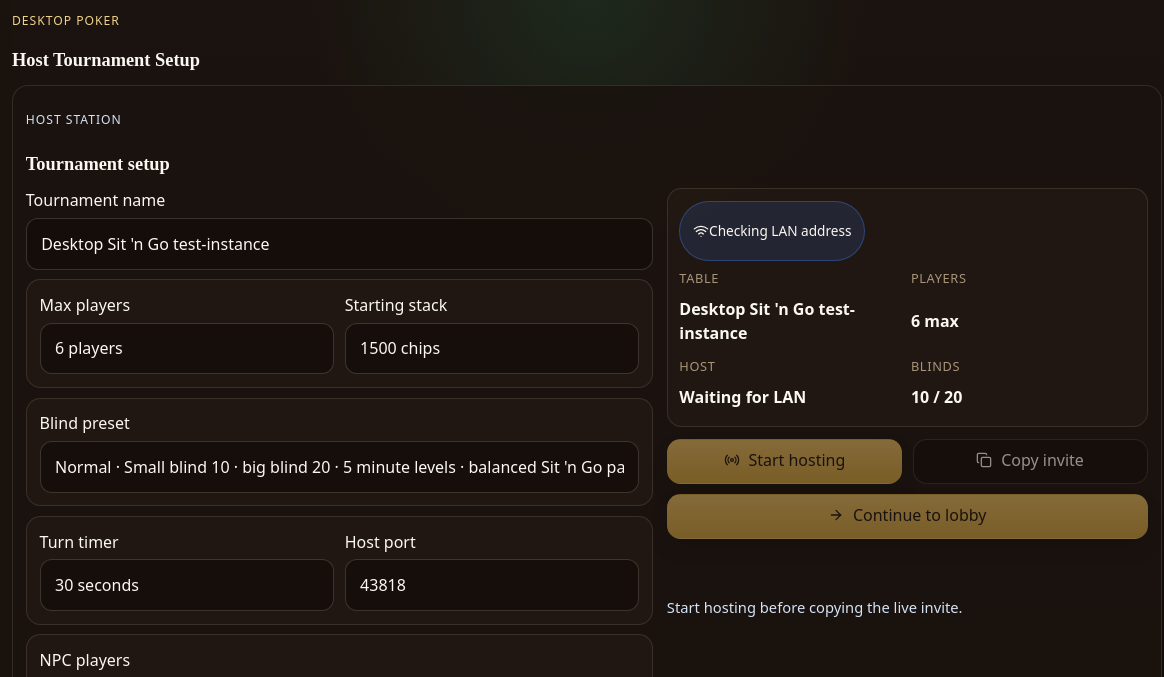
Test case: HostTournamentSetupScreen › shows port validation feedback after the user blurs an out-of-range port (F2)
The width and height of the screenshot is (1164, 677).
Replace the text in the number field labelled "Host port" with "99999" at (492, 585), box x1=345 y1=559 x2=639 y2=611
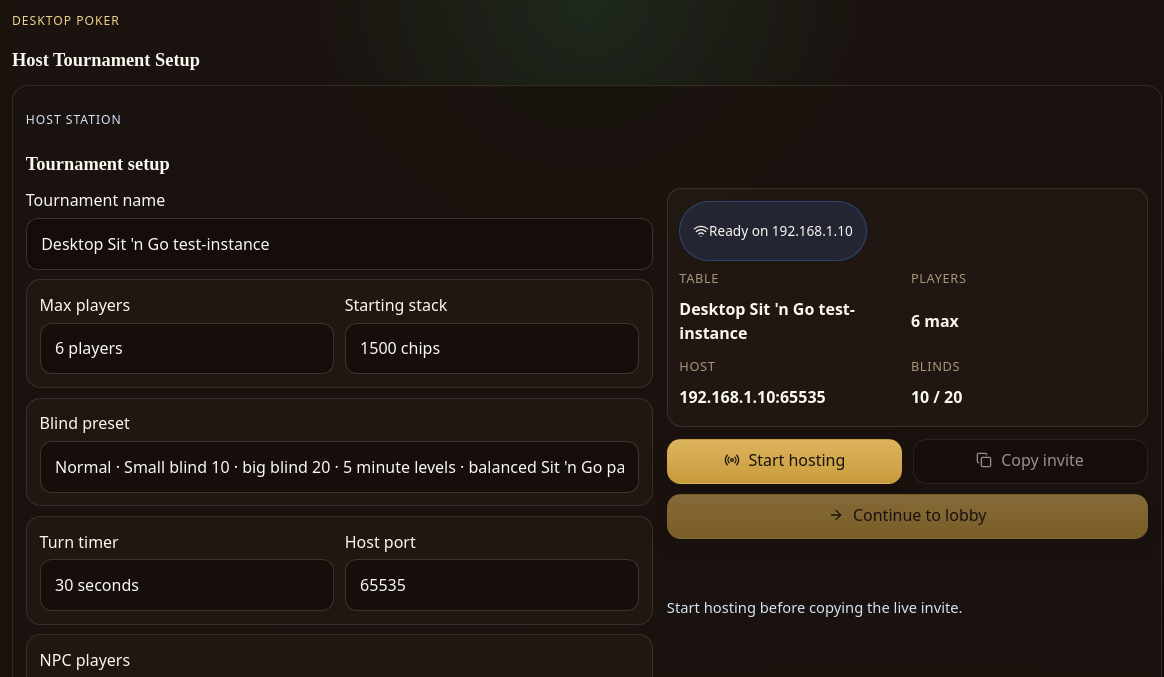
Expected: the text "Port must be between 1 and 65535." is not shown
Leave the number field labelled "Host port", box x1=345 y1=559 x2=639 y2=611
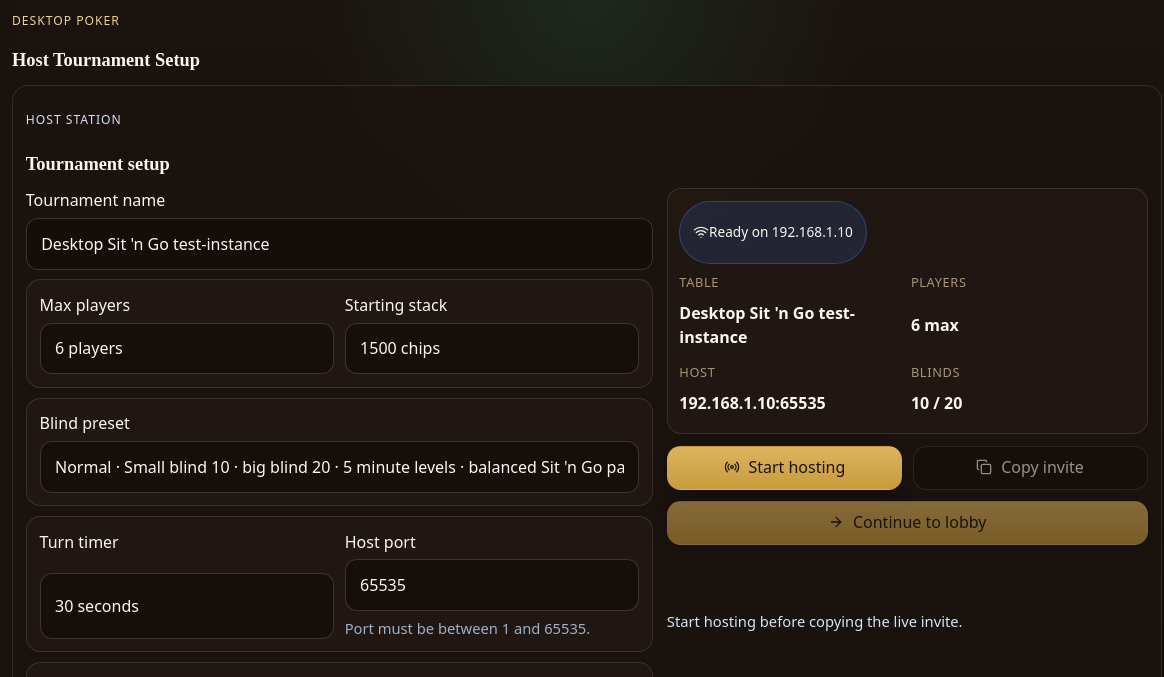
Now the text "Port must be between 1 and 65535." is shown, box x1=345 y1=618 x2=590 y2=638
Replace the text in the number field labelled "Host port Port must be between 1 and 65535." with "43818" at (492, 585), box x1=345 y1=559 x2=639 y2=611
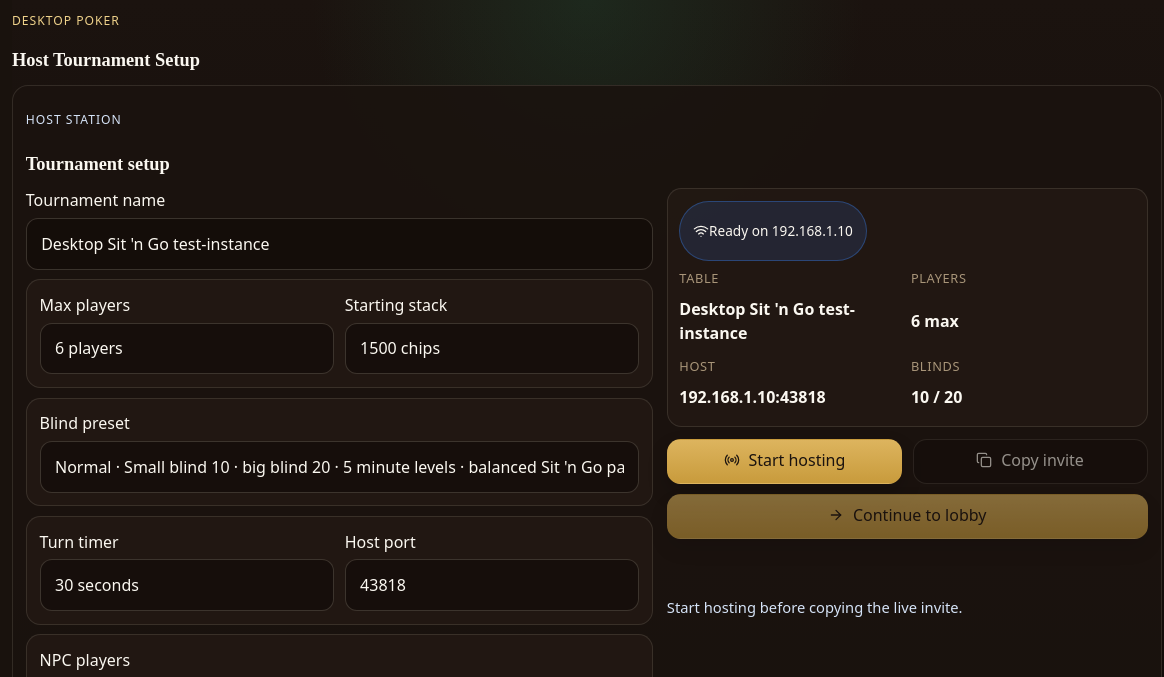
Now the text "Port must be between 1 and 65535." is gone
